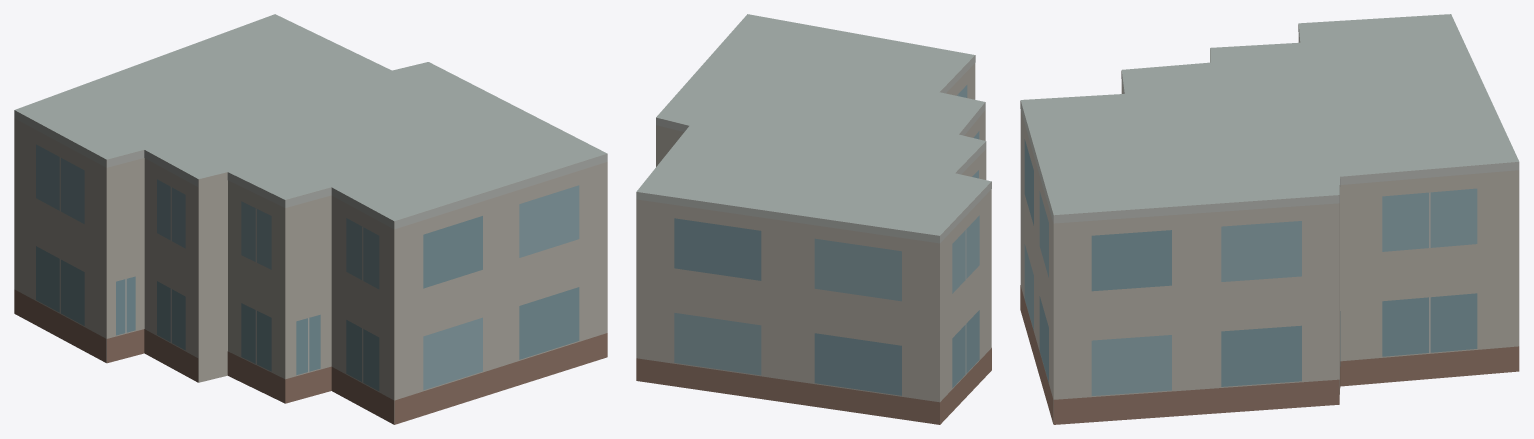
Rendered from survey-upis-32725708.glb.
The picture shows the model from 3 angles, left to right: view 1: azimuth 30°, elevation 25°; view 2: azimuth 150°, elevation 25°; view 3: azimuth 270°, elevation 25°; orthographic projection. The views are drawn at different scales.
Parts seen in each view (by area): view 1: survey-upis-32725708.tmp; view 2: survey-upis-32725708.tmp; view 3: survey-upis-32725708.tmp.
Boxes of the visible parts, x1,y1,x2,y2 form: survey-upis-32725708.tmp: (14,14,607,424); survey-upis-32725708.tmp: (636,14,991,424); survey-upis-32725708.tmp: (1020,14,1519,424).
Bounding box in the file's own units: 12.56 × 6.1 × 13.17.
